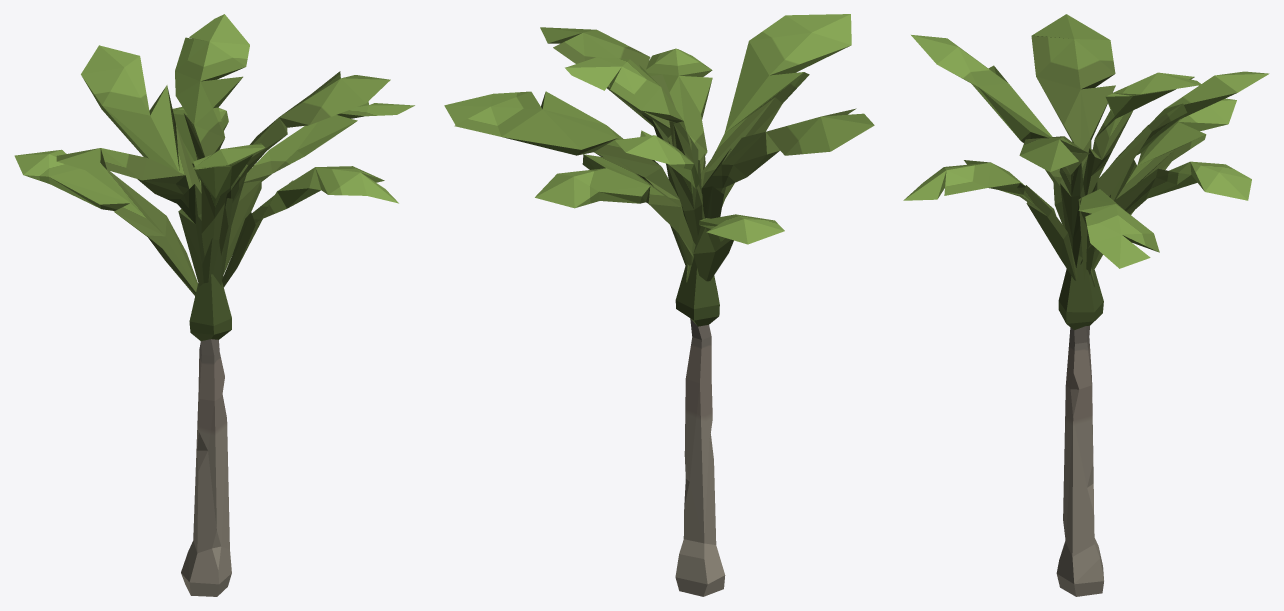
File: SM_Env_Tree_01.glb
The picture shows the model from 3 angles, left to right: view 1: azimuth 30°, elevation 25°; view 2: azimuth 150°, elevation 25°; view 3: azimuth 270°, elevation 25°; orthographic projection. The views are drawn at different scales.
Visible parts, largest first — view 1: SM_Env_Tree_01; view 2: SM_Env_Tree_01; view 3: SM_Env_Tree_01.
Boxes of the visible parts, x1=… form: SM_Env_Tree_01: x1=14, y1=14, x2=414, y2=596; SM_Env_Tree_01: x1=444, y1=14, x2=874, y2=596; SM_Env_Tree_01: x1=903, y1=14, x2=1269, y2=596.
Bounding box in the file's own units: 4.66 × 6.06 × 3.69.
1 material, 1 textured.
